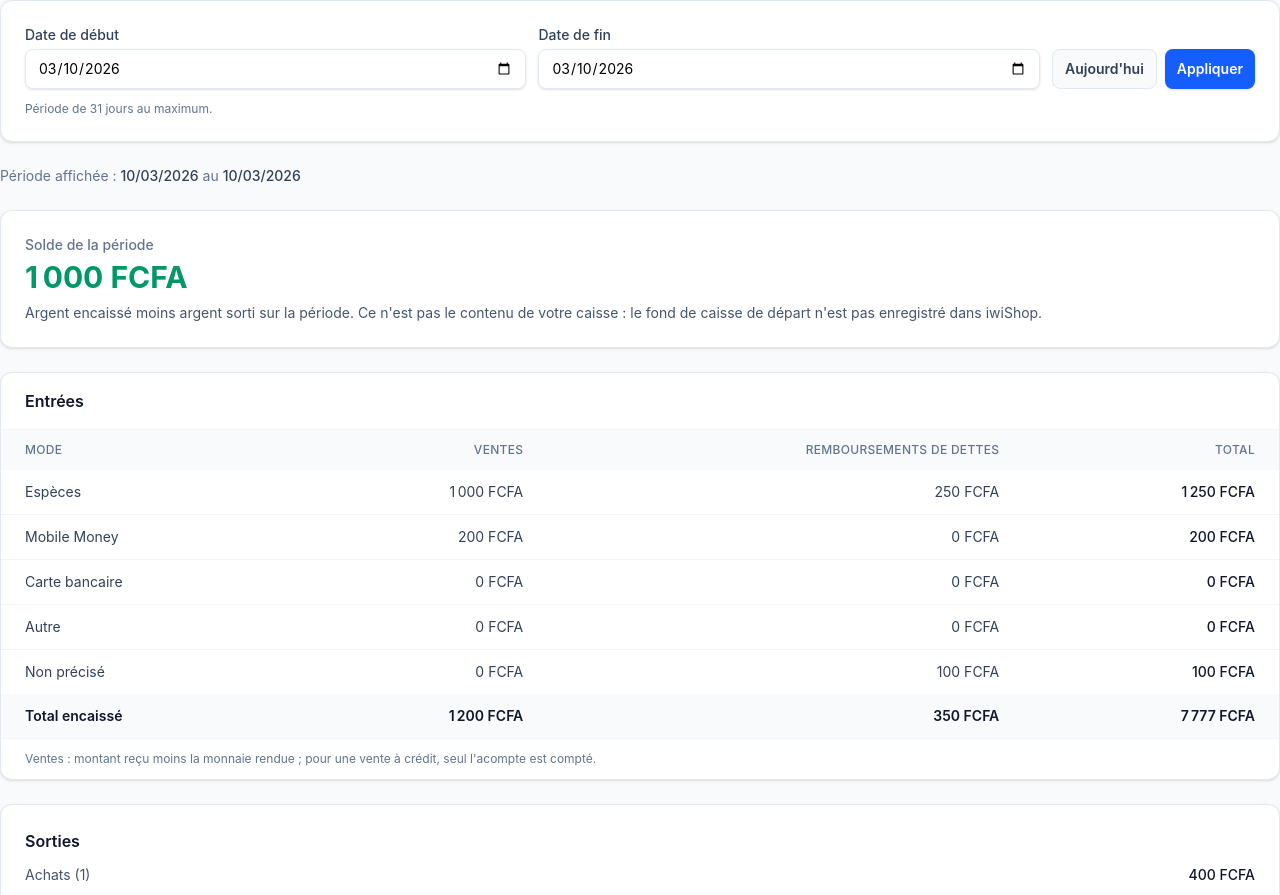
it: JournalCaisse › envoie la période choisie et affiche le message de refus de l'API
expect the text "Solde de la période" is shown: met, box [25, 236, 154, 253]
Type "2026-03-01" into the date field labelled "Date de début".
click(276, 69); type("2026-03-01")  # box [25, 49, 526, 89]
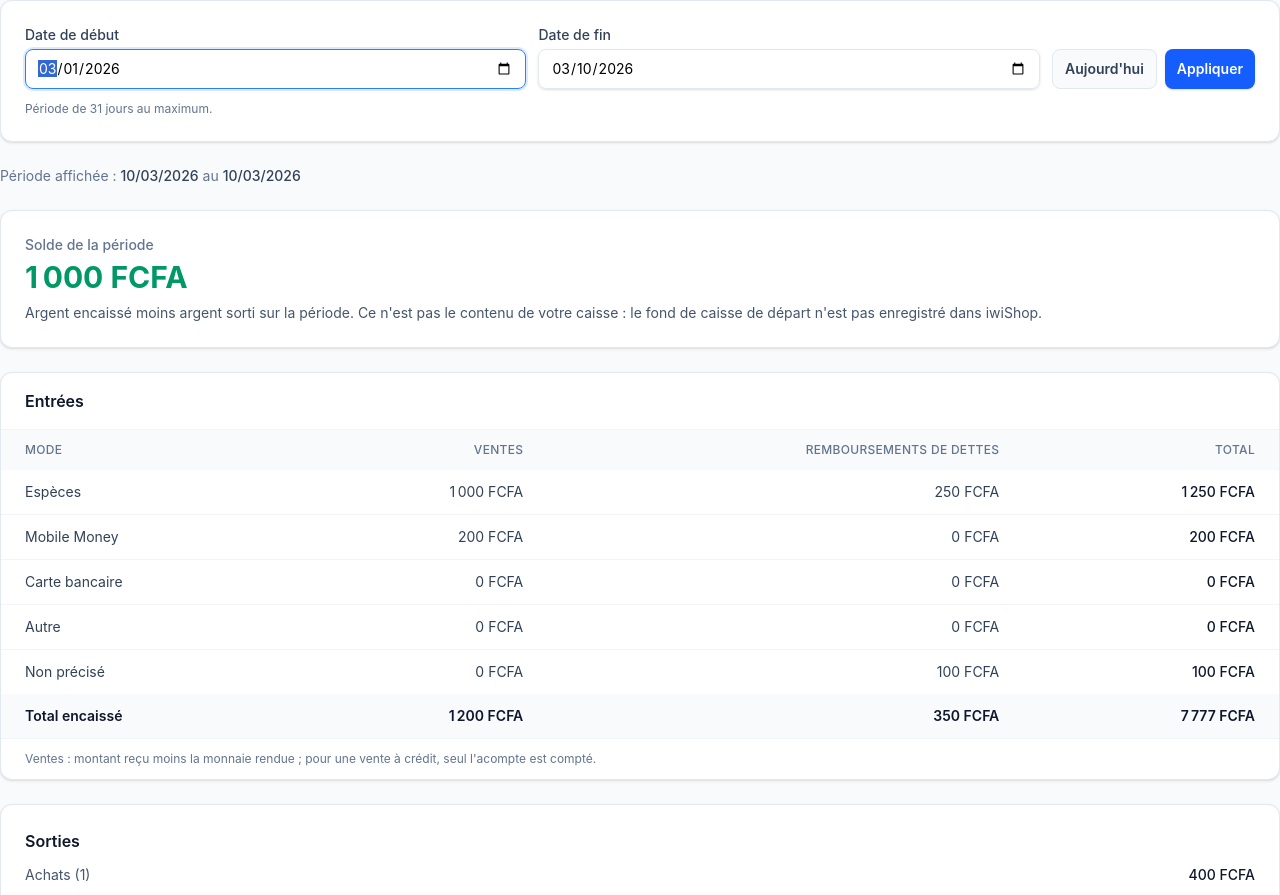
Type "2026-04-15" into the date field labelled "Date de fin".
click(789, 69); type("2026-04-15")  # box [538, 49, 1040, 89]
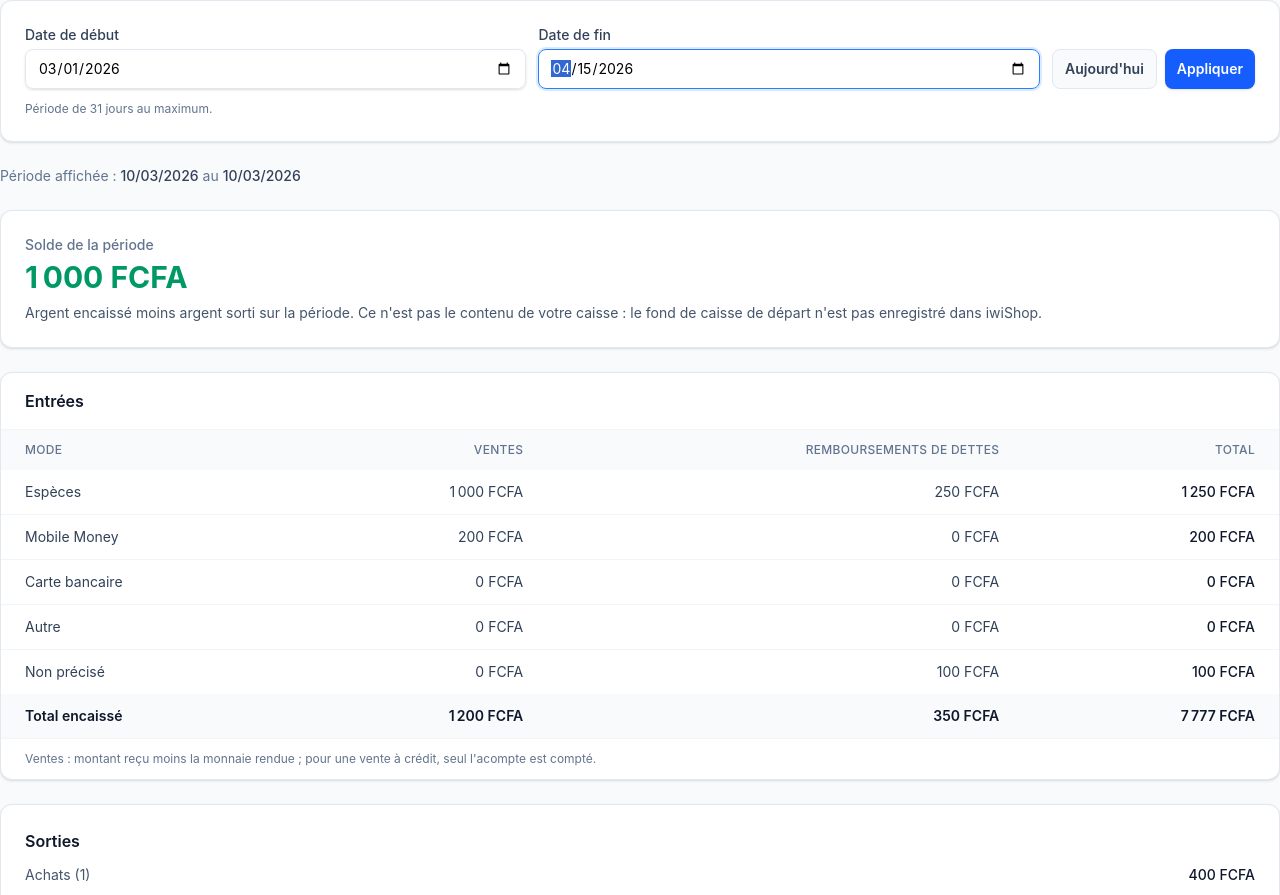
Click the button "Appliquer".
click(1210, 69)  # box [1165, 49, 1255, 89]
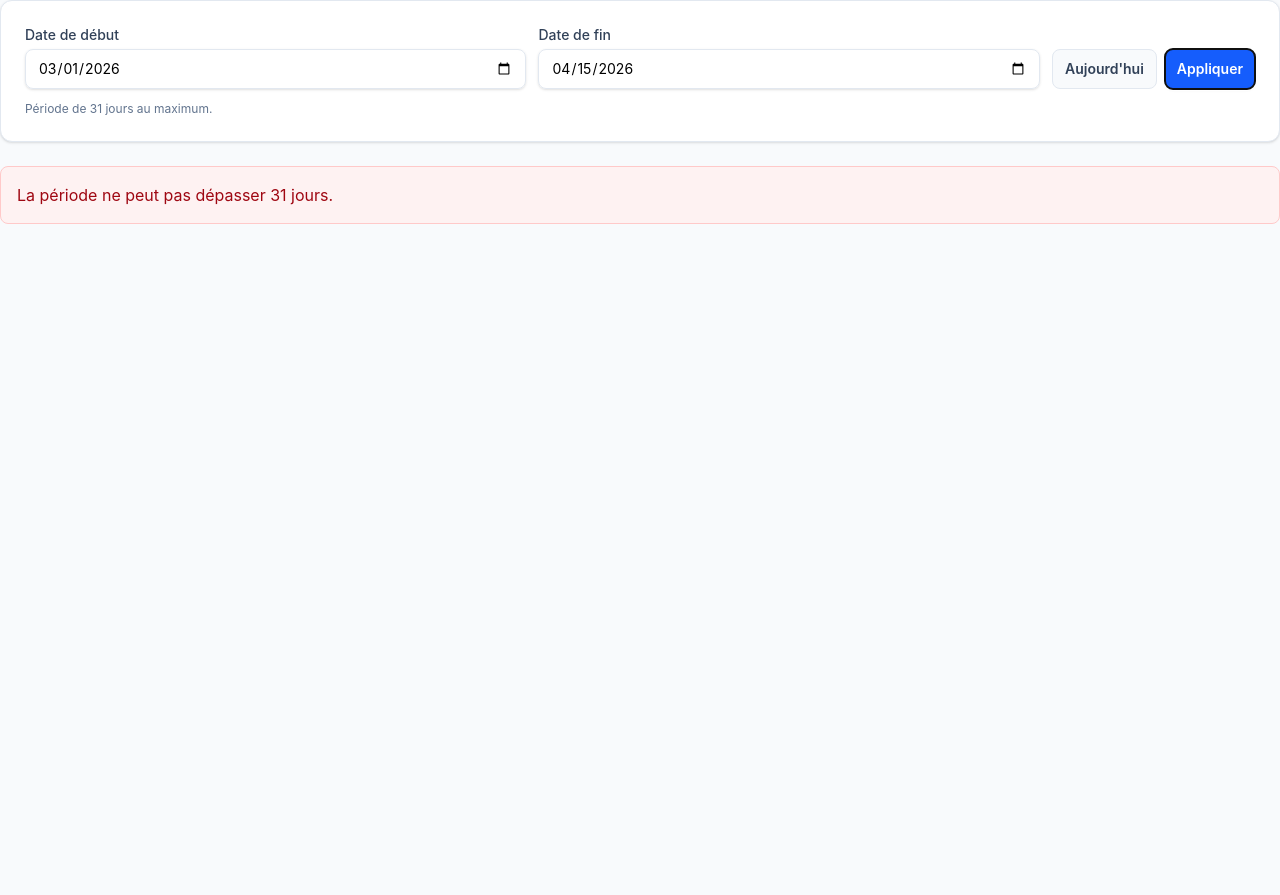
expect the text "La période ne peut pas dépasser 31 jours." is shown: met, box [0, 166, 1279, 224]
